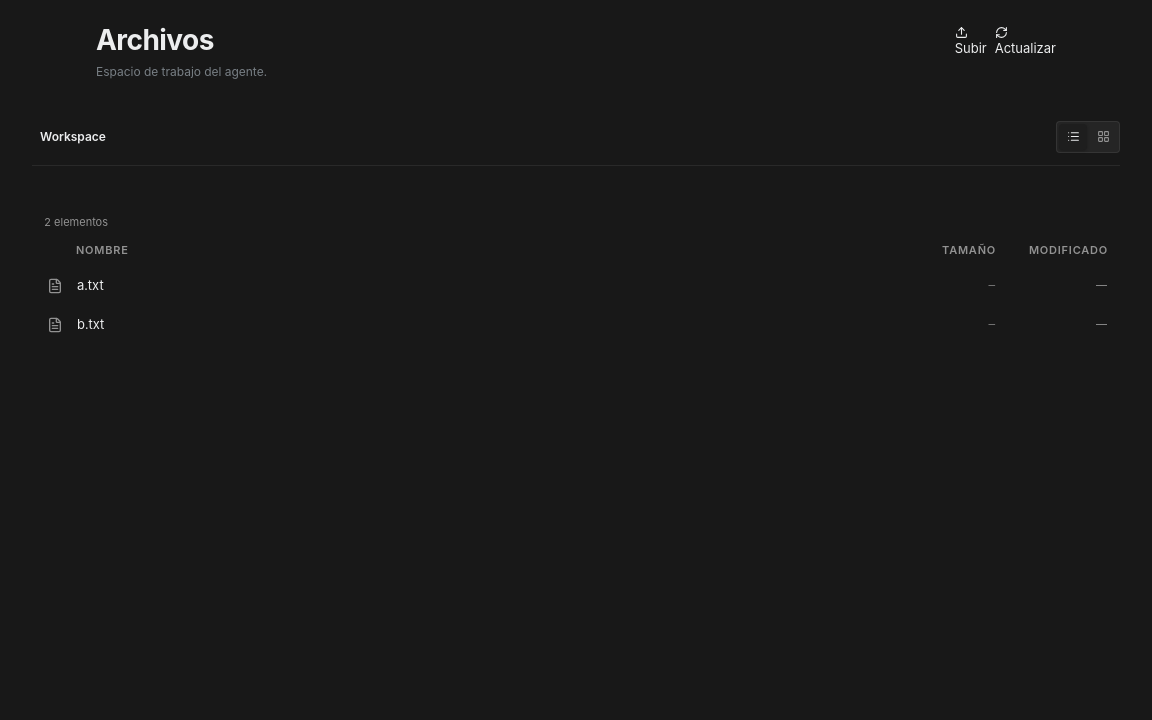
Test: HTTP preview errors are not shown as file content and offer retry
Click the button "a.txt — —": click(55, 286) [47,277,1107,294]
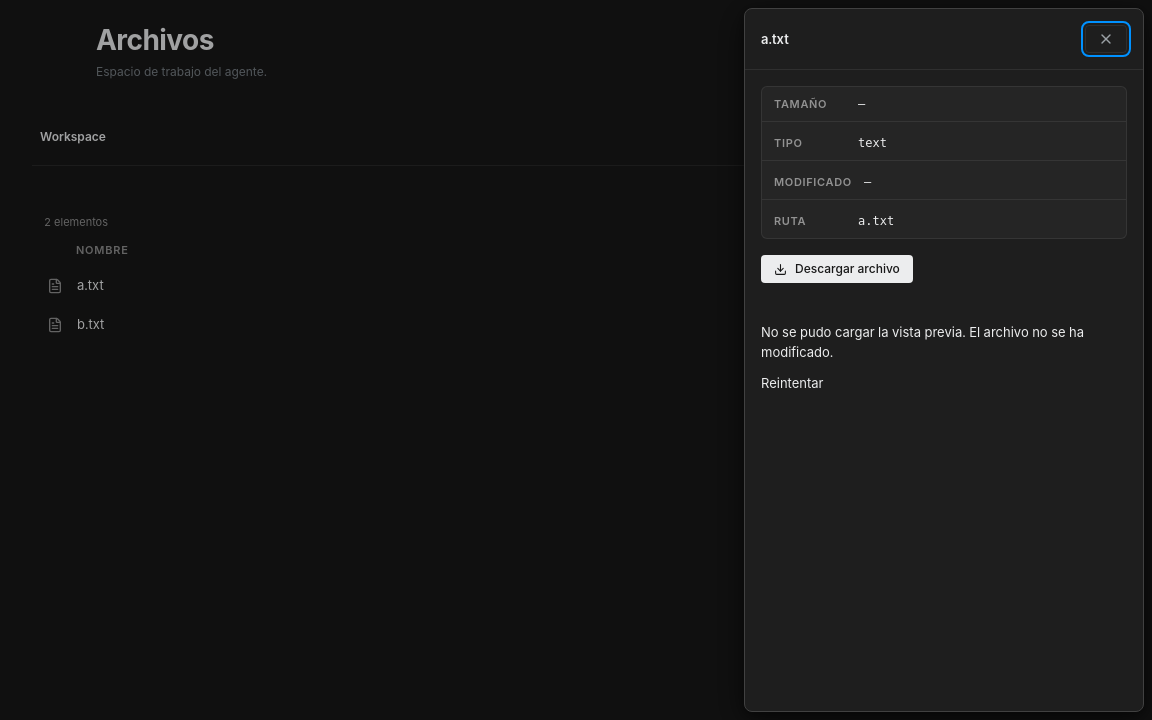
Expected: the message "No se pudo cargar la vista previa. El archivo no se ha modificado. Reintentar" is shown, [761,324,1084,391]
